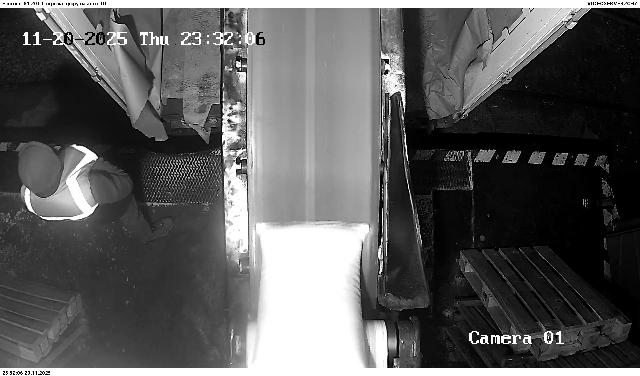bag: (253, 223, 371, 368)
